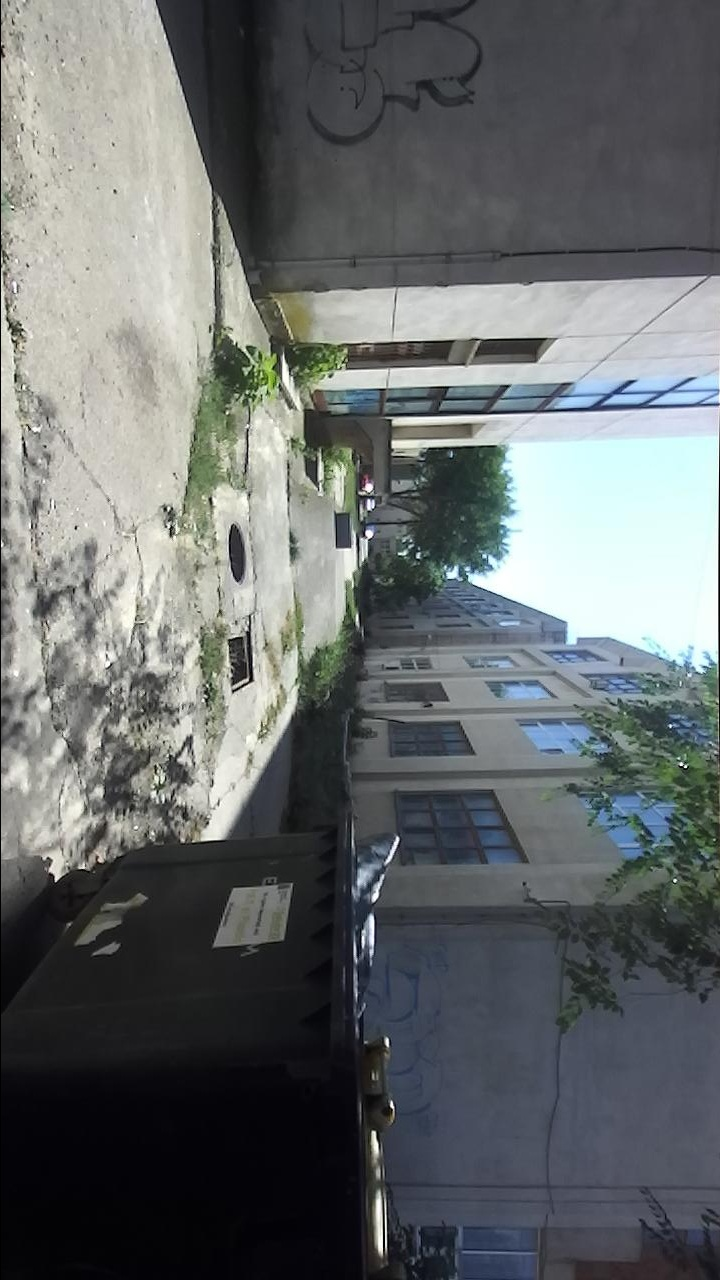drain: (226, 625, 258, 700), (223, 519, 255, 587)
